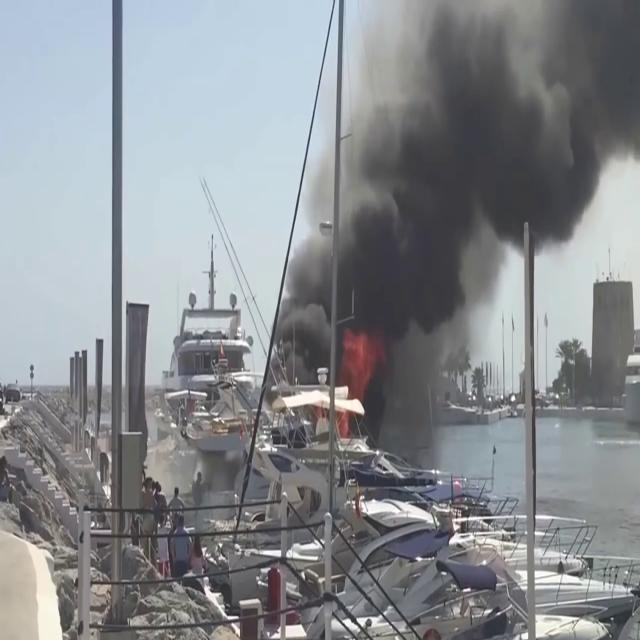Smoke: (272, 0, 640, 428)
